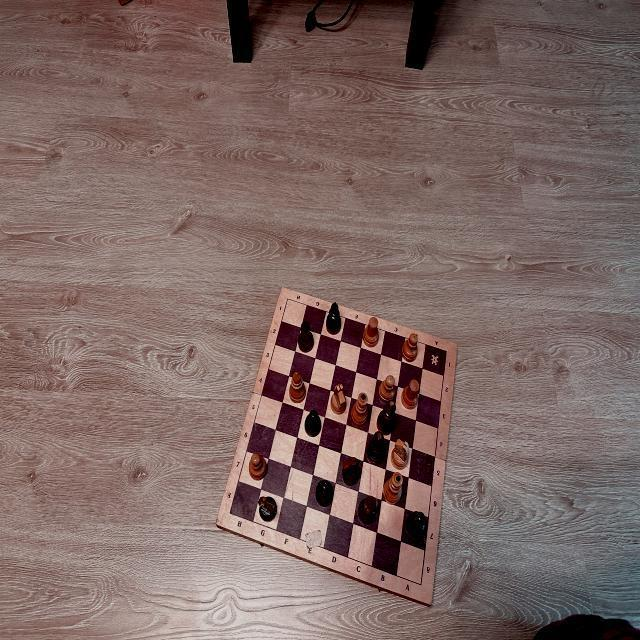chess-table-corners: (418, 581, 424, 589), (228, 509, 232, 517), (286, 296, 290, 302), (445, 349, 448, 354)
